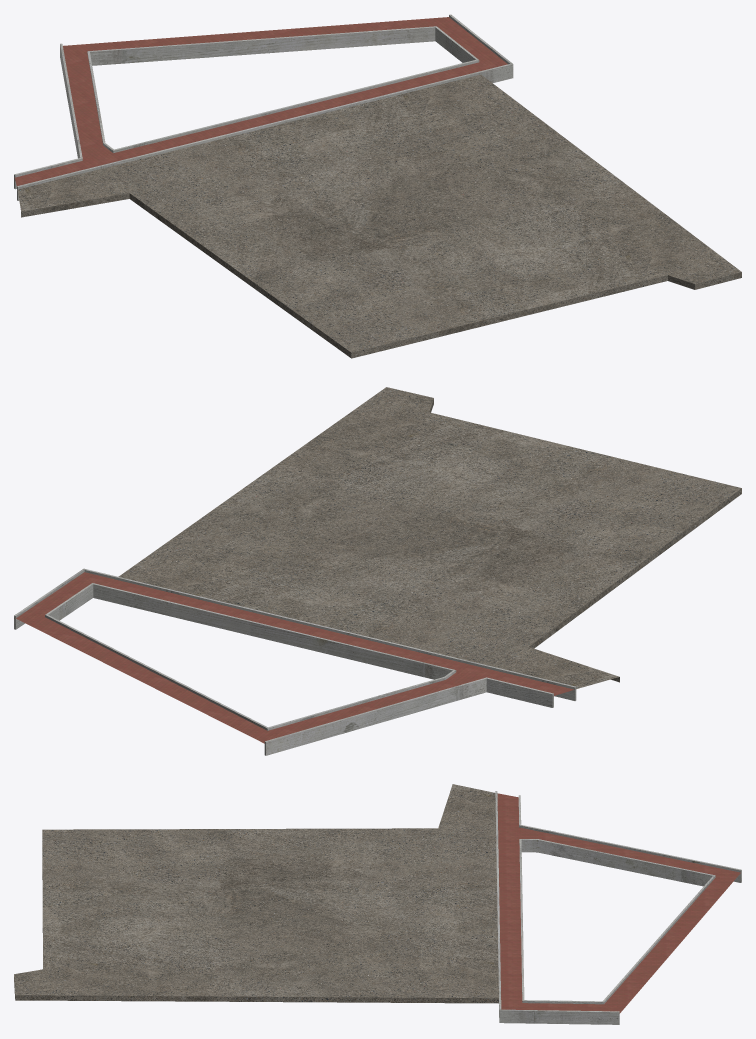
Rendered from road_p10_04.fbx.
3 renders of one model, top to bottom at view 1: azimuth 30°, elevation 25°; view 2: azimuth 150°, elevation 25°; view 3: azimuth 270°, elevation 25°, orthographic. The views are drawn at different scales.
Parts seen in each view (by area): view 1: road_p10_04; view 2: road_p10_04; view 3: road_p10_04.
Part boxes in pixels (bbox=[...]): road_p10_04: bbox=[14, 14, 741, 358]; road_p10_04: bbox=[14, 387, 741, 755]; road_p10_04: bbox=[14, 784, 741, 1024].
Bounding box in the file's own units: 4692 × 120 × 6267.
